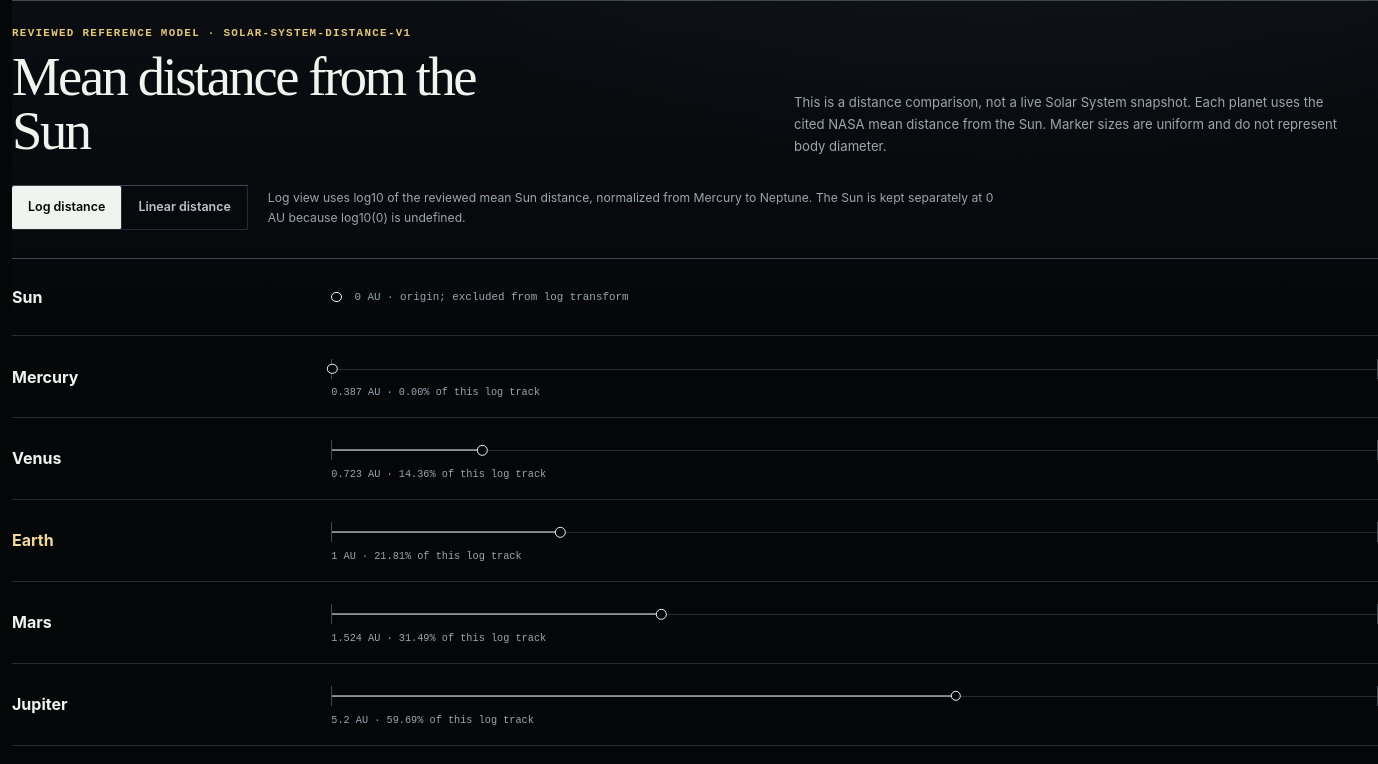
Solar System Distance Explorer › selects a planet while keeping distance and size semantics separate
The image size is (1378, 764).
Click the button "Jupiter": (40, 704) 12,682 -> 307,726
(page scrolled)
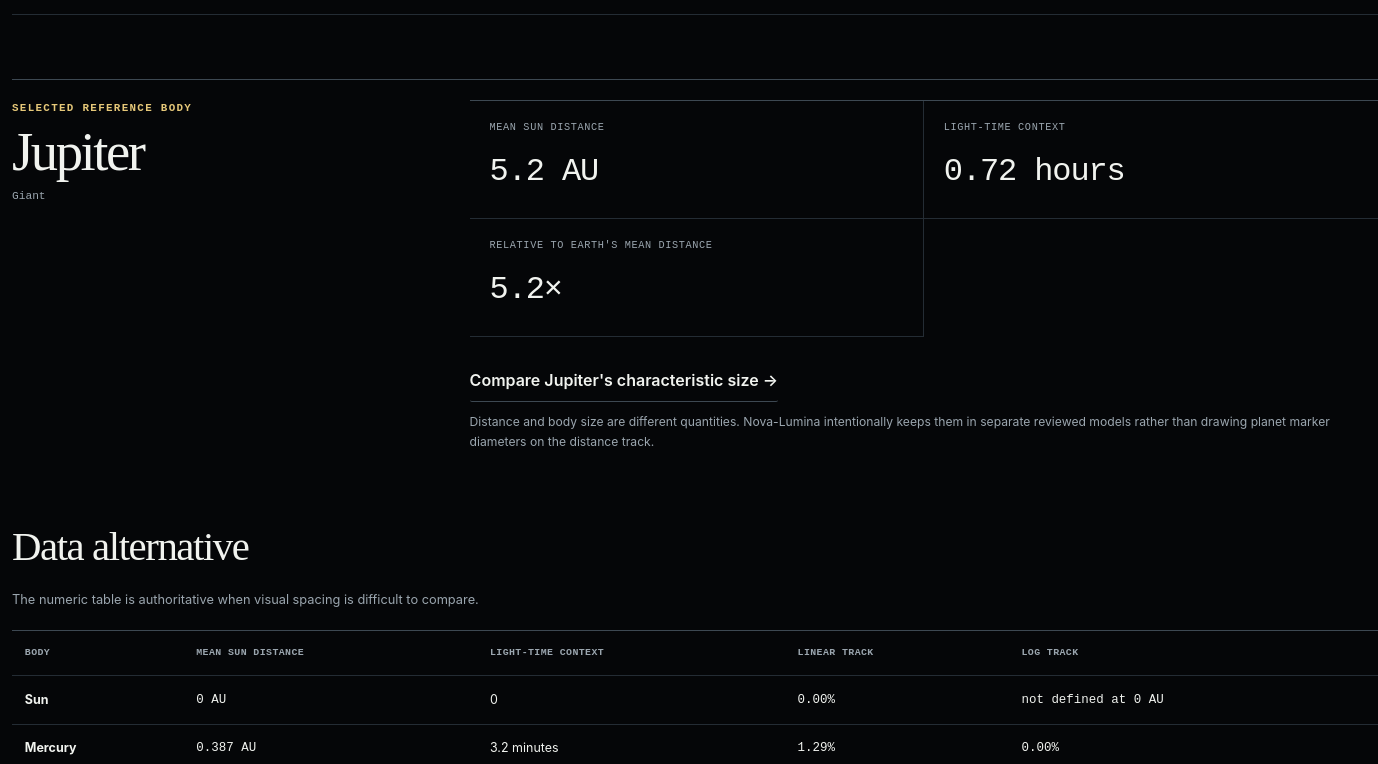
Check: the heading "Jupiter" is shown, box 12,121 -> 144,182
Check: the text "5.2 AU" is shown, box 490,153 -> 598,190
Check: the text "0.72 hours" is shown, box 944,153 -> 1125,190
